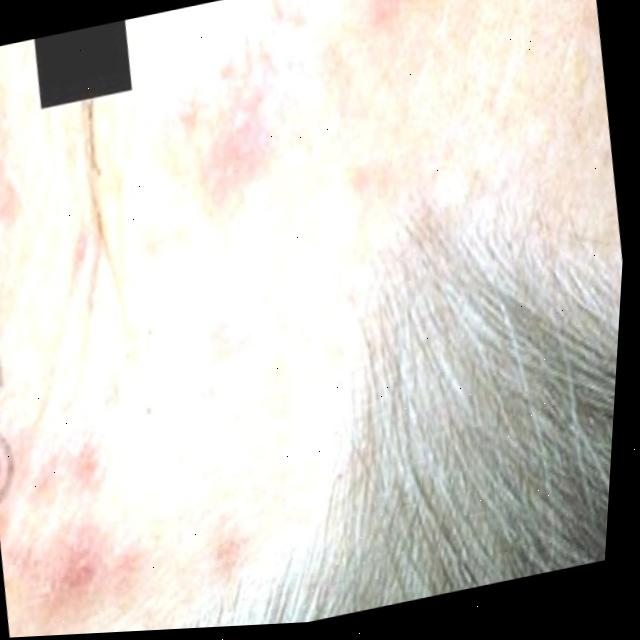Rosacea: (18, 427, 251, 624), (178, 81, 285, 210), (361, 0, 440, 29)
